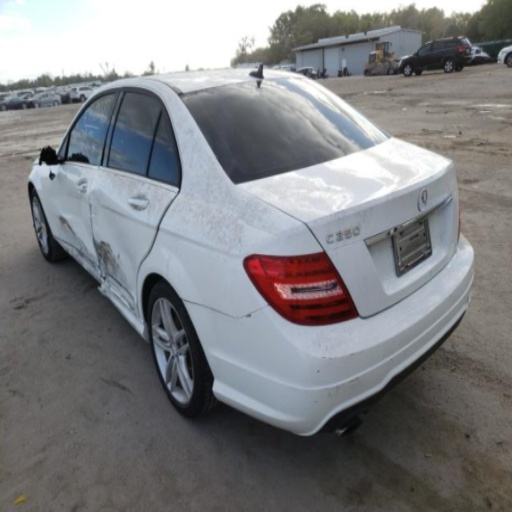dent: (51, 174, 94, 254), (53, 235, 105, 286), (103, 278, 135, 315)
scratch: (93, 238, 119, 278), (58, 216, 75, 238)
